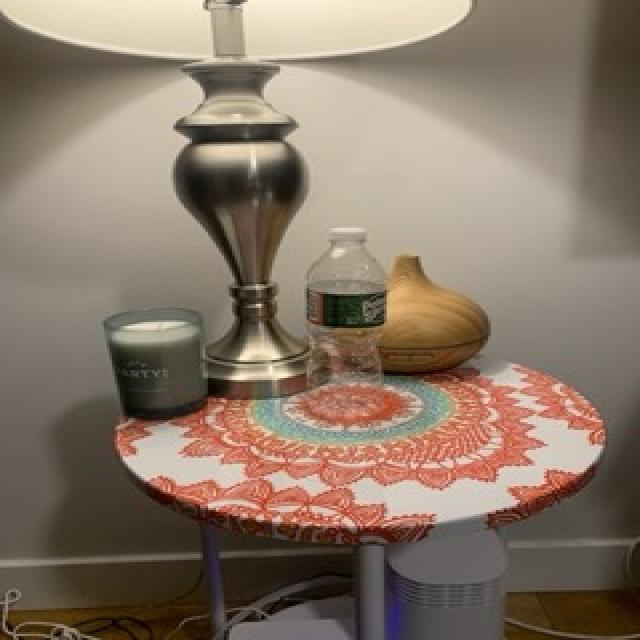water_bottle: (302, 227, 391, 420)
